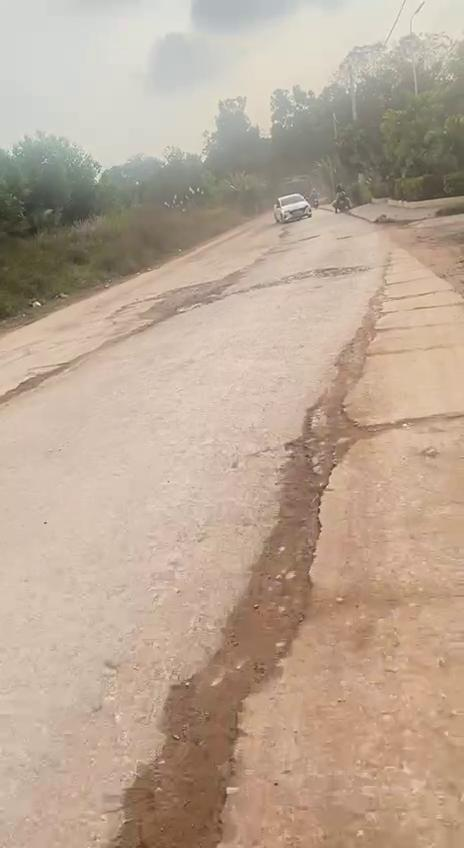pothole: (123, 641, 276, 848), (282, 386, 362, 499)
